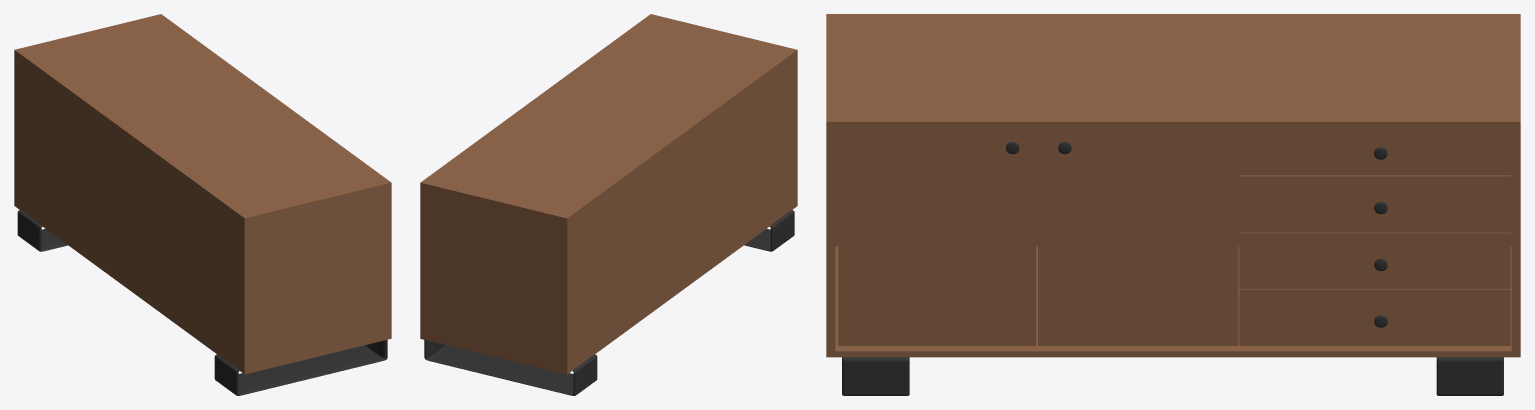
File: compressed_Buffet.glb
3 renders of one model, left to right at view 1: azimuth 30°, elevation 25°; view 2: azimuth 150°, elevation 25°; view 3: azimuth 270°, elevation 25°, orthographic. The views are drawn at different scales.
Parts seen in each view (by area): view 1: Cube.001, Cube.004; view 2: Cube.001, Cube.004; view 3: Cube.001, Plane.001, Plane, Cube.006, Cube.005, Cube.003, Cube.010, Cube.004.
Boxes of the visible parts, x1=… form: Cube.001: x1=14, y1=14, x2=391, y2=374; Cube.004: x1=17, y1=210, x2=387, y2=395; Cube.001: x1=420, y1=14, x2=797, y2=374; Cube.004: x1=424, y1=210, x2=794, y2=395; Cube.001: x1=826, y1=14, x2=1520, y2=357; Plane.001: x1=1038, y1=128, x2=1238, y2=345; Plane: x1=838, y1=128, x2=1036, y2=345; Cube.006: x1=1239, y1=175, x2=1510, y2=232; Cube.005: x1=1239, y1=232, x2=1510, y2=289; Cube.003: x1=1239, y1=289, x2=1510, y2=345; Cube.010: x1=1239, y1=128, x2=1510, y2=175; Cube.004: x1=842, y1=357, x2=1503, y2=395.
Bounding box in the file's own units: 0.4736 × 0.5427 × 1.25.
